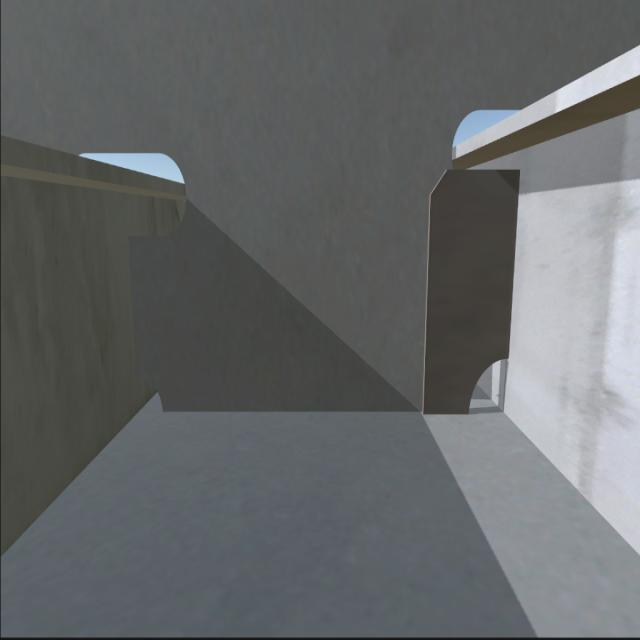fillet_hole: (464, 360, 509, 411), (134, 369, 164, 412)
fillet_yong_jeop_jang: (167, 407, 467, 418)
longi_yong_jeop_jang: (126, 238, 139, 369), (511, 174, 519, 360)
plate_CP03: (424, 169, 509, 411)
